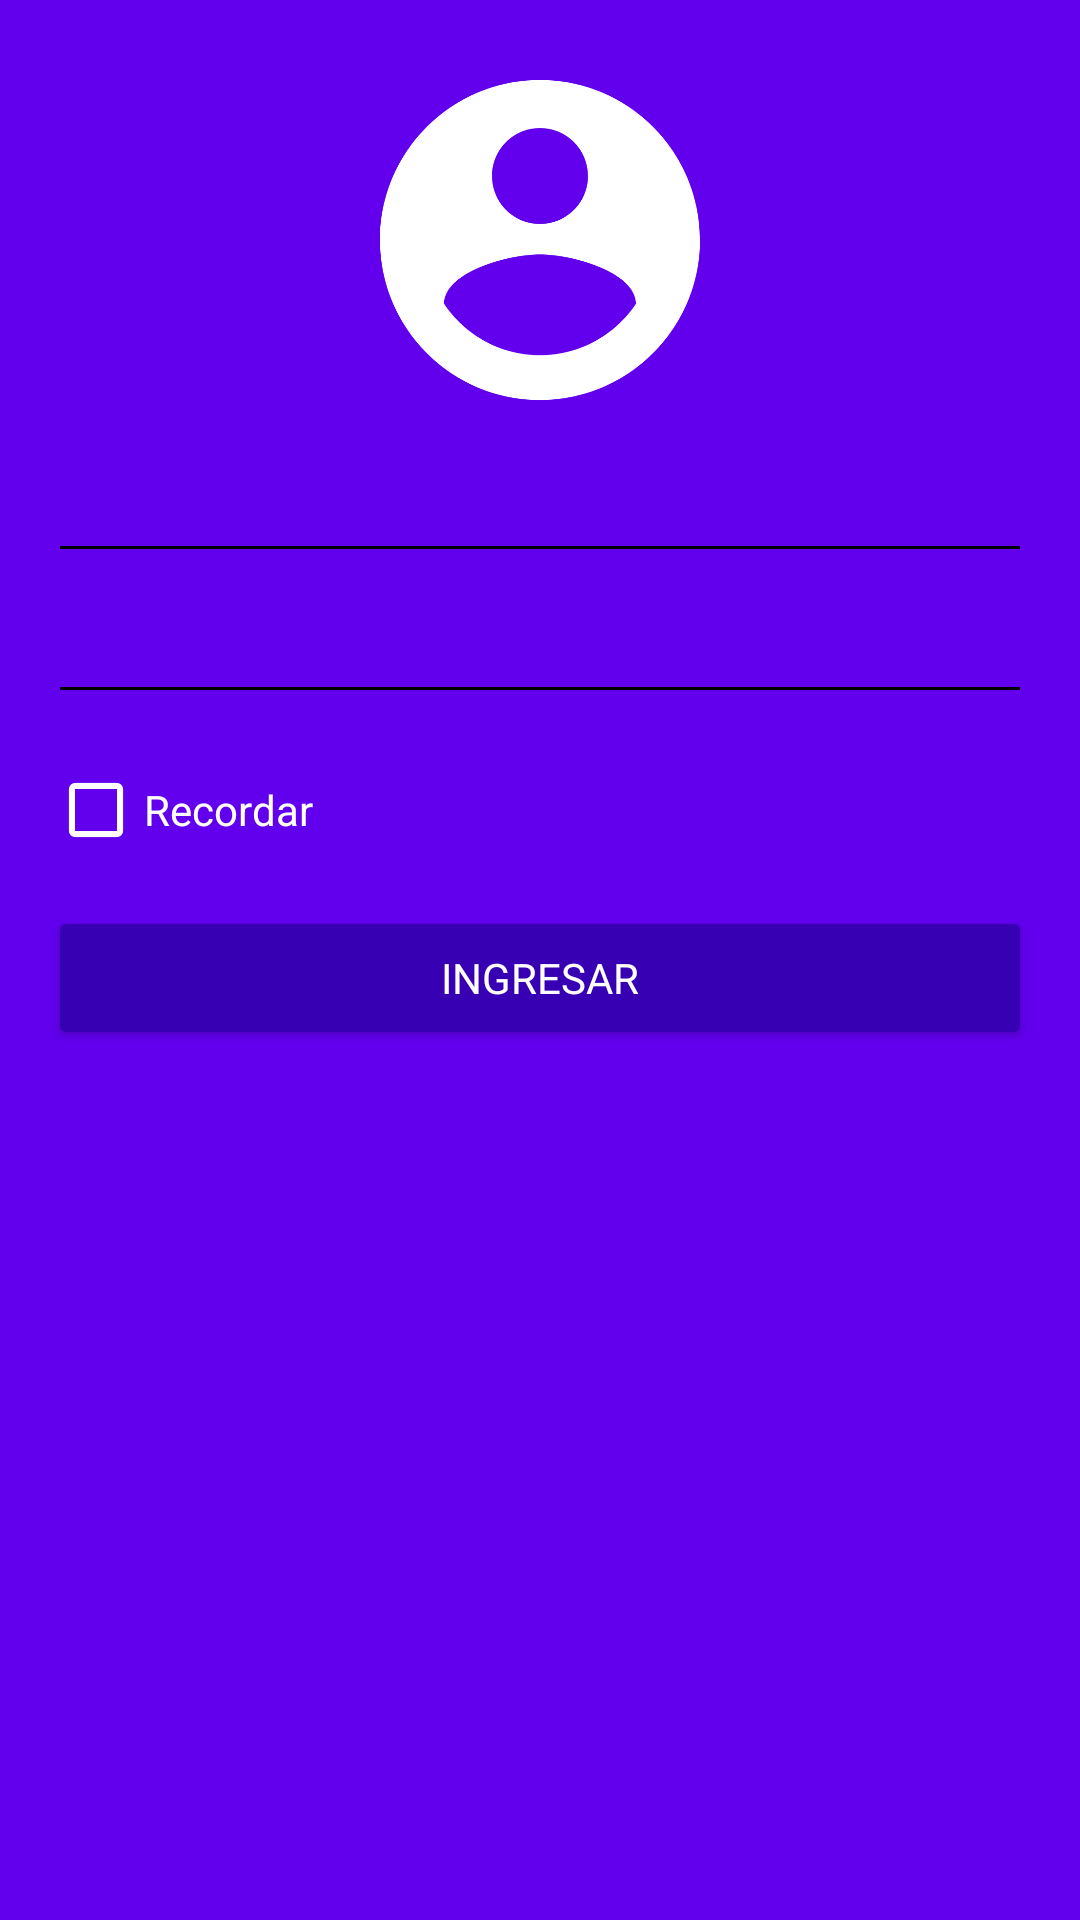

Screen size 1080x1920. Icon name, then its center in pixels as point (x, y):
account circle: point (540, 240)
